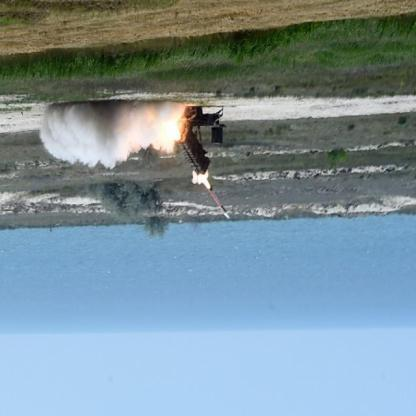MIL_TBM: (206, 180, 230, 220)
